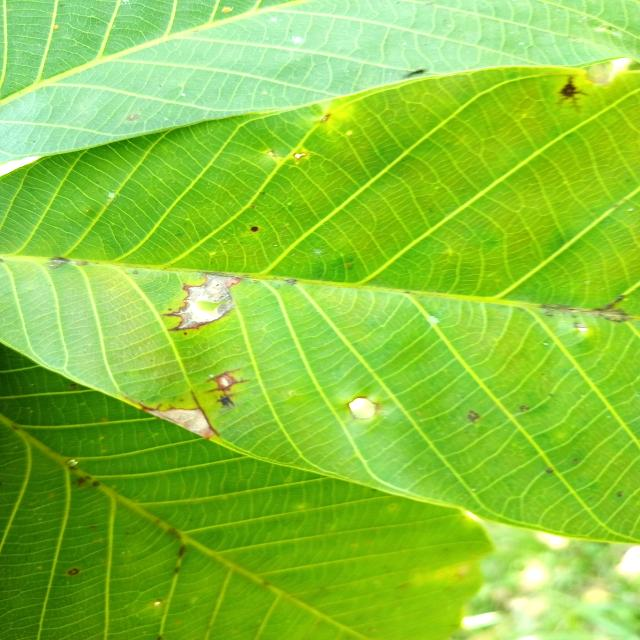Colletotrichum: (250, 226, 259, 232)
Corynespora: (207, 368, 249, 408), (190, 391, 220, 436)
Leaf-Blight: (176, 273, 242, 328), (145, 407, 214, 439)
